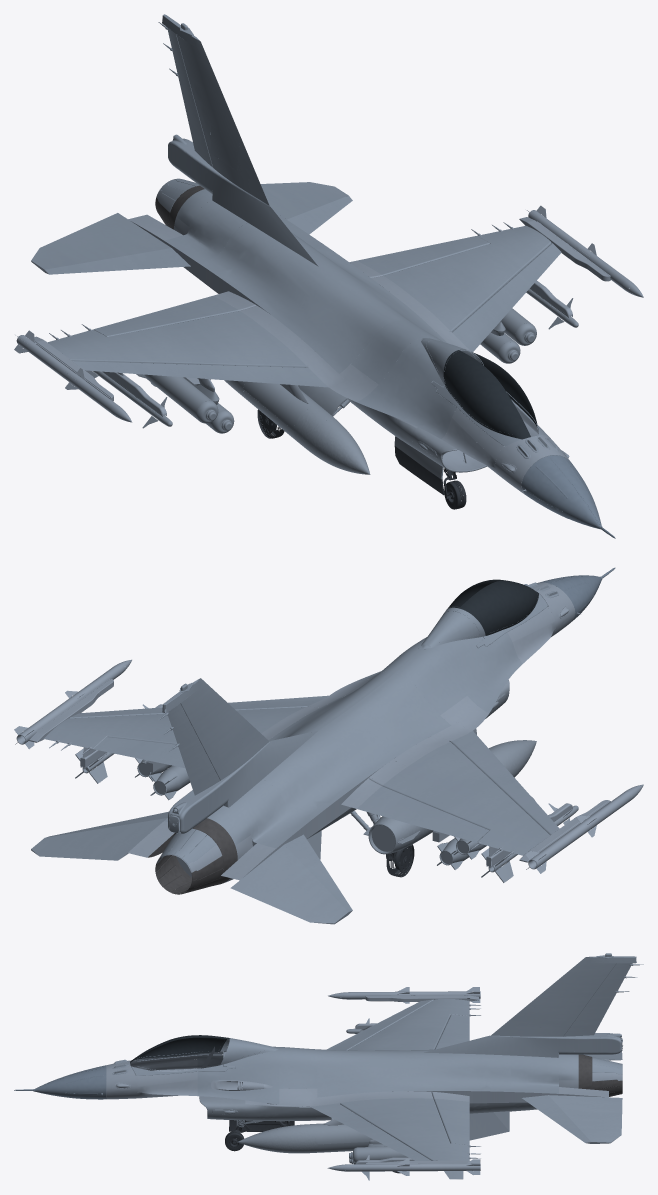
File: F_16_Updated_Metadata 4.glb
3 renders of one model, top to bottom at view 1: azimuth 30°, elevation 25°; view 2: azimuth 150°, elevation 25°; view 3: azimuth 270°, elevation 25°, orthographic. The views are drawn at different scales.
Parts seen in each view (by area): view 1: F16_Mid_Fuselage_Region_Right_Part_0169, F16_Wing_Region_Right_Part_0043, F16_Wing_Region_Left_Part_0022, F16_Mid_Fuselage_Region_Right_Part_0114, F16_Vertical_Tail_Region_Right_Part_0235, F16_Horizontal_Tail_Region_Right_Part_1493, F16_Forward_Fuselage_Region_Right_Part_0290, F16_Wing_Region_Right_Part_0033, F16_Aft_Fuselage_Region_Right_Part_0221, F16_Mid_Fuselage_Region_Left_Part_0170, F16_Wing_Region_Left_Part_0010, F16_Nose_Region_Right_Part_0333 (+24 smaller); view 2: F16_Mid_Fuselage_Region_Right_Part_0169, F16_Wing_Region_Right_Part_0043, F16_Horizontal_Tail_Region_Right_Part_1493, F16_Mid_Fuselage_Region_Right_Part_0114, F16_Wing_Region_Left_Part_0022, F16_Vertical_Tail_Region_Right_Part_0235, F16_Horizontal_Tail_Region_Left_Part_0589, F16_Aft_Fuselage_Region_Right_Part_0221, F16_Aft_Fuselage_Region_Right_Part_0168, F16_Wing_Region_Right_Part_0053, F16_Forward_Fuselage_Region_Right_Part_0290, F16_Mid_Fuselage_Region_Right_Part_0096 (+24 smaller); view 3: F16_Mid_Fuselage_Region_Left_Part_0170, F16_Wing_Region_Left_Part_0022, F16_Vertical_Tail_Region_Left_Part_0234, F16_Wing_Region_Right_Part_0043, F16_Aft_Fuselage_Region_Left_Part_0207, F16_Mid_Fuselage_Region_Left_Part_0113, F16_Horizontal_Tail_Region_Left_Part_0589, F16_Aft_Fuselage_Region_Left_Part_0171, F16_Vertical_Tail_Region_Left_Part_0183, F16_Mid_Fuselage_Region_Left_Part_0873, F16_Mid_Fuselage_Region_Left_Part_0097, F16_Nose_Region_Left_Part_0332 (+29 smaller).
Boxes of the visible parts, box(x1,y1,x2,y2) form: F16_Mid_Fuselage_Region_Right_Part_0169: box(199, 222, 394, 373); F16_Wing_Region_Right_Part_0043: box(48, 311, 305, 365); F16_Wing_Region_Left_Part_0022: box(384, 225, 550, 330); F16_Mid_Fuselage_Region_Right_Part_0114: box(357, 338, 456, 439); F16_Vertical_Tail_Region_Right_Part_0235: box(176, 34, 269, 205); F16_Horizontal_Tail_Region_Right_Part_1493: box(31, 213, 170, 269); F16_Forward_Fuselage_Region_Right_Part_0290: box(444, 351, 526, 434); F16_Wing_Region_Right_Part_0033: box(73, 361, 328, 387); F16_Aft_Fuselage_Region_Right_Part_0221: box(168, 144, 318, 266); F16_Mid_Fuselage_Region_Left_Part_0170: box(291, 232, 446, 342); F16_Wing_Region_Left_Part_0010: box(453, 243, 561, 351); F16_Nose_Region_Right_Part_0333: box(521, 456, 599, 528); F16_Mid_Fuselage_Region_Right_Part_0169: box(263, 672, 451, 819); F16_Wing_Region_Right_Part_0043: box(384, 742, 549, 855); F16_Horizontal_Tail_Region_Right_Part_1493: box(231, 845, 348, 923); F16_Mid_Fuselage_Region_Right_Part_0114: box(423, 632, 522, 713); F16_Wing_Region_Left_Part_0022: box(44, 707, 305, 748); F16_Vertical_Tail_Region_Right_Part_0235: box(181, 678, 269, 779); F16_Horizontal_Tail_Region_Left_Part_0589: box(31, 818, 167, 860); F16_Aft_Fuselage_Region_Right_Part_0221: box(184, 730, 317, 830); F16_Aft_Fuselage_Region_Right_Part_0168: box(229, 779, 310, 848); F16_Wing_Region_Right_Part_0053: box(357, 786, 488, 842); F16_Forward_Fuselage_Region_Right_Part_0290: box(460, 580, 537, 633); F16_Mid_Fuselage_Region_Right_Part_0096: box(396, 649, 466, 714); F16_Mid_Fuselage_Region_Left_Part_0170: box(317, 1051, 510, 1097); F16_Wing_Region_Left_Part_0022: box(341, 1098, 469, 1160); F16_Vertical_Tail_Region_Left_Part_0234: box(491, 957, 615, 1036); F16_Wing_Region_Right_Part_0043: box(348, 999, 469, 1050); F16_Aft_Fuselage_Region_Left_Part_0207: box(424, 1036, 619, 1057); F16_Mid_Fuselage_Region_Left_Part_0113: box(197, 1049, 279, 1104); F16_Horizontal_Tail_Region_Left_Part_0589: box(548, 1095, 622, 1142); F16_Aft_Fuselage_Region_Left_Part_0171: box(510, 1055, 558, 1093); F16_Vertical_Tail_Region_Left_Part_0183: box(564, 963, 632, 1036); F16_Mid_Fuselage_Region_Left_Part_0873: box(237, 1125, 318, 1153); F16_Mid_Fuselage_Region_Left_Part_0097: box(279, 1049, 317, 1088); F16_Nose_Region_Left_Part_0332: box(35, 1067, 106, 1099).
Size of the model in its own units: 10.13 by 5.24 by 15.2.
7 materials, 7 textured.
